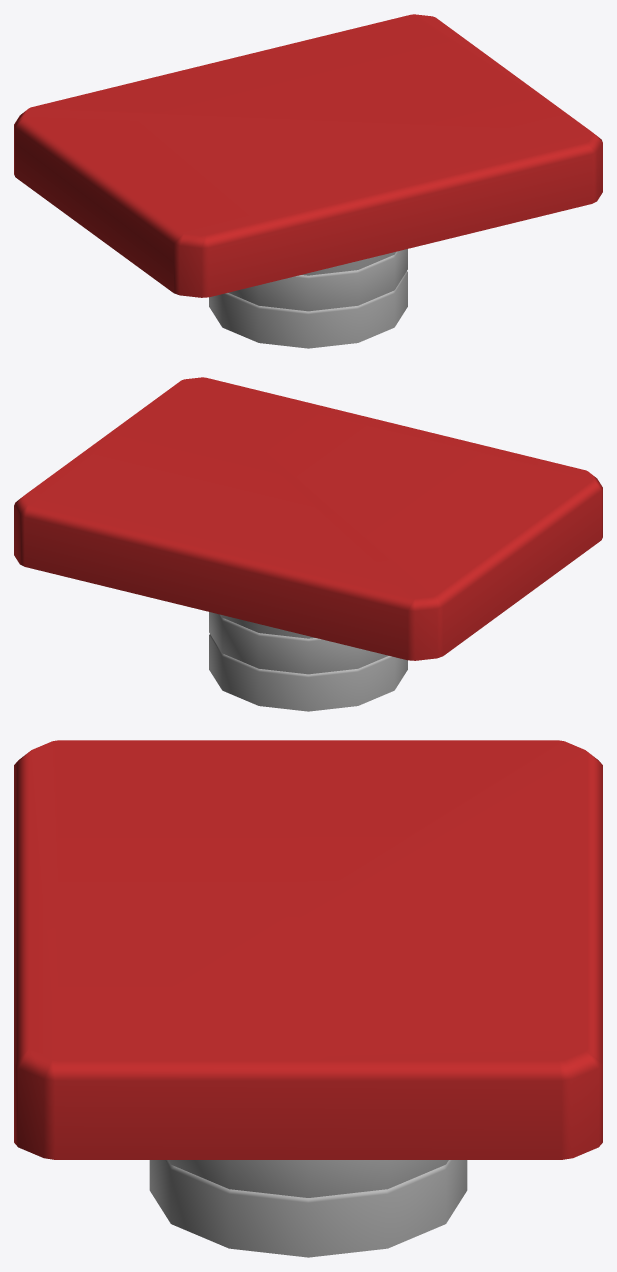
Rendered from platform_018_002.fbx.
3 renders of one model, top to bottom at view 1: azimuth 30°, elevation 25°; view 2: azimuth 150°, elevation 25°; view 3: azimuth 270°, elevation 25°, orthographic. The views are drawn at different scales.
Visible parts, largest first — view 1: platform_018_002; view 2: platform_018_002; view 3: platform_018_002.
Boxes of the visible parts, x1,y1,x2,y2 form: platform_018_002: (14, 14, 602, 348); platform_018_002: (14, 377, 602, 711); platform_018_002: (14, 740, 602, 1257).
Bounding box in the file's own units: 266 × 199 × 108.
